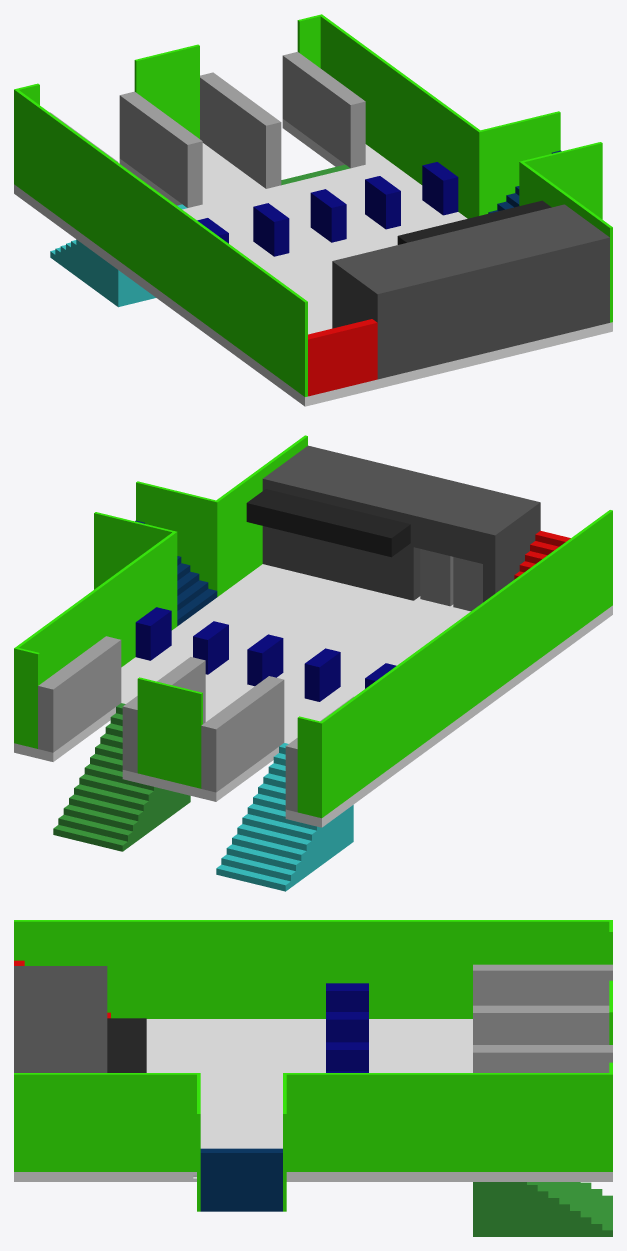
Rendered from subway 1.obj.
3 renders of one model, top to bottom at view 1: azimuth 30°, elevation 25°; view 2: azimuth 150°, elevation 25°; view 3: azimuth 270°, elevation 25°, orthographic. The views are drawn at different scales.
Size of the model in its own units: 12.8 by 5.6 by 16.7.
1 material, 1 textured.
